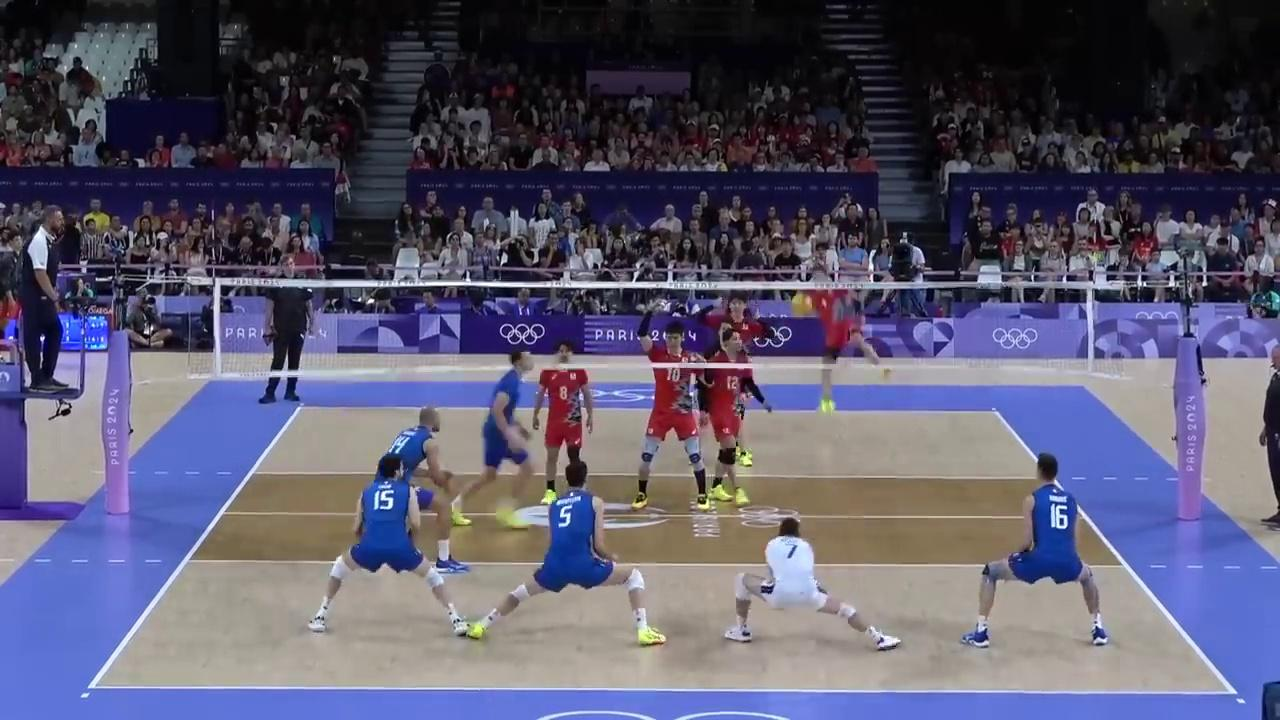ball: (792, 294, 811, 316)
